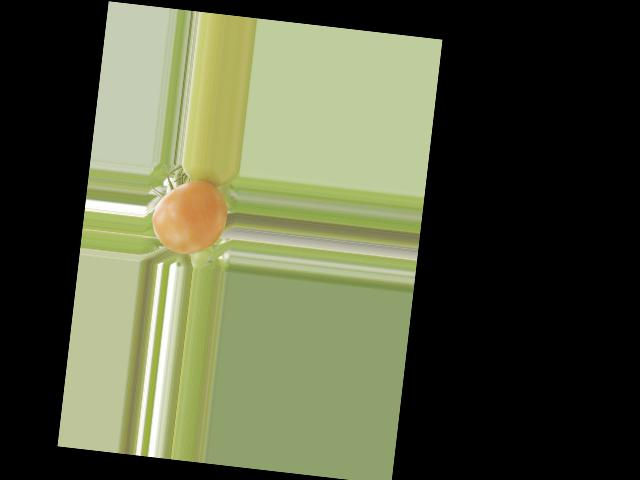tomato: (148, 175, 231, 258)
